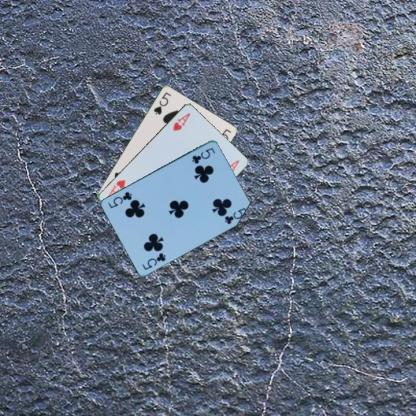5c: (140, 250, 167, 271), (190, 144, 216, 165)
5s: (151, 89, 172, 116)
Ah: (170, 110, 192, 132)
